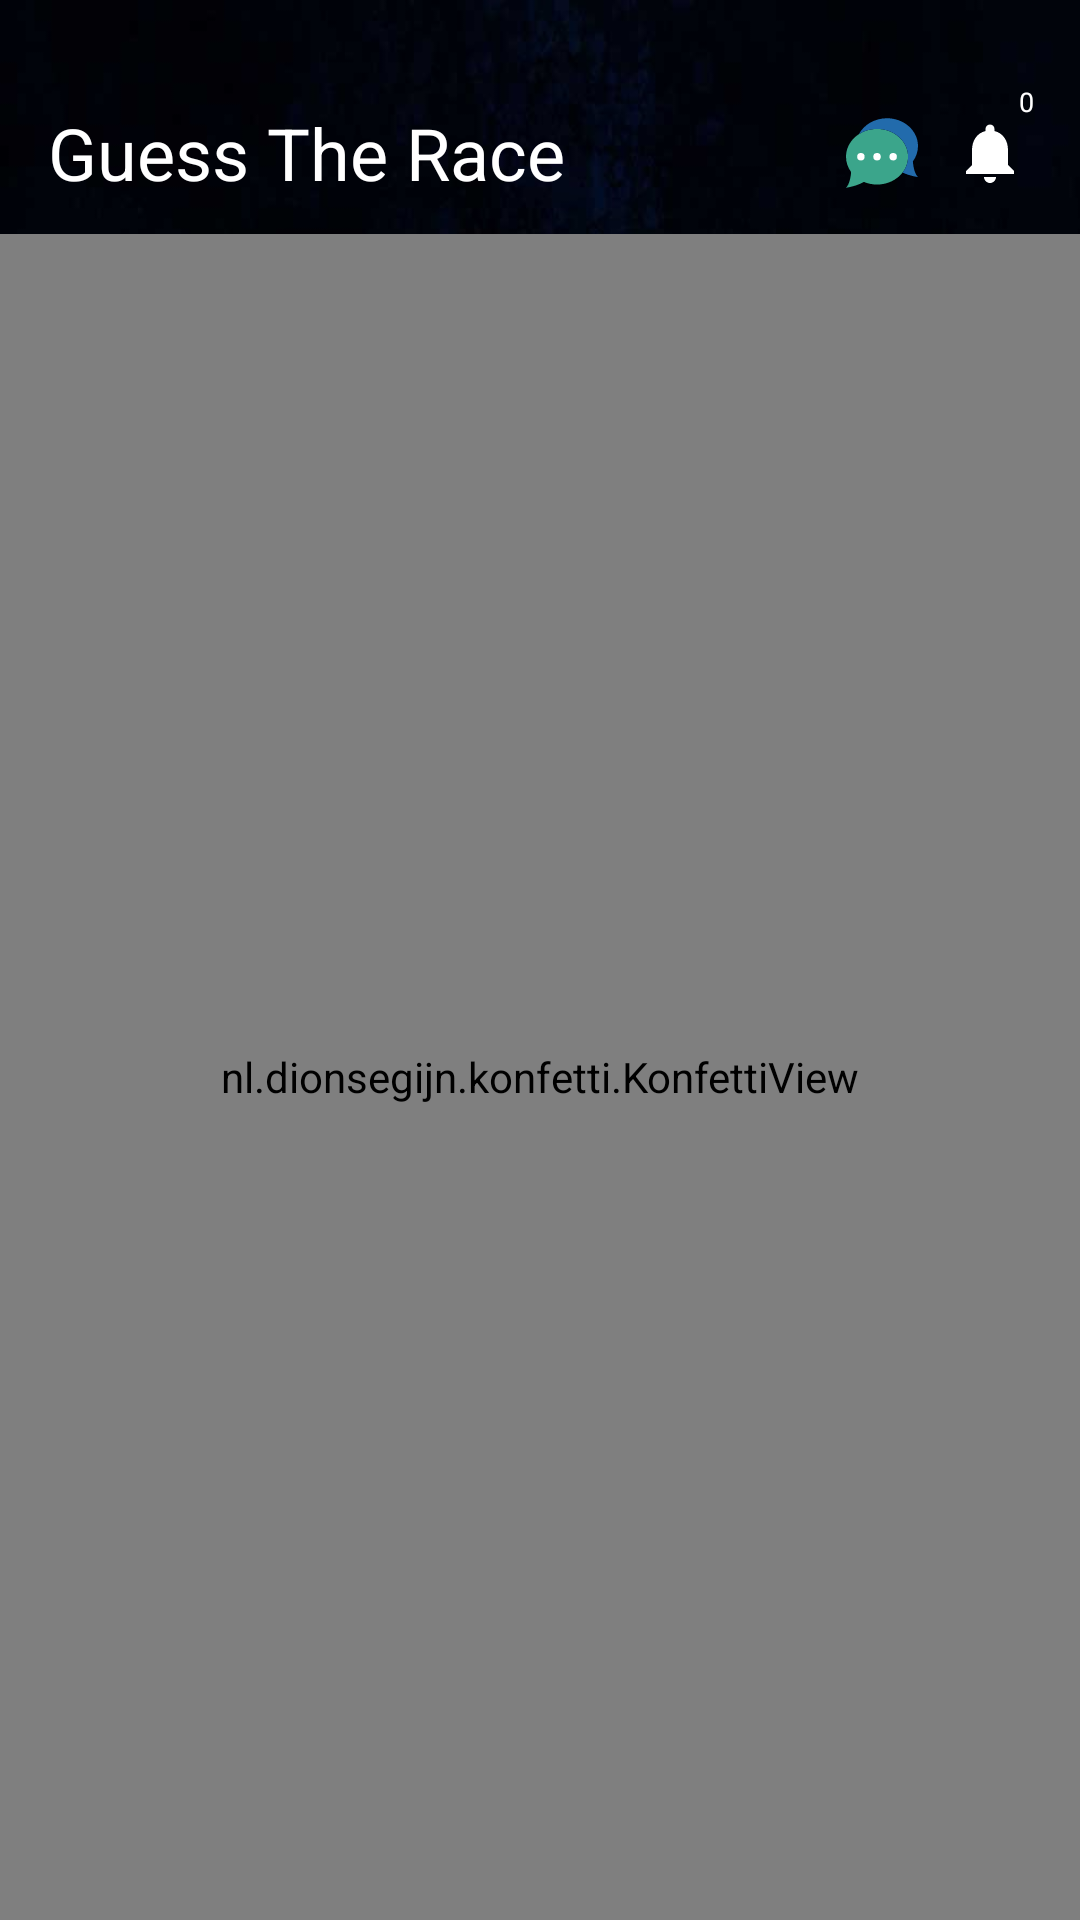

Where to tap for icons on this 1080 x 1920 app screen, as (x,y):
discuss: (882,153)
notifications: (990,153)
